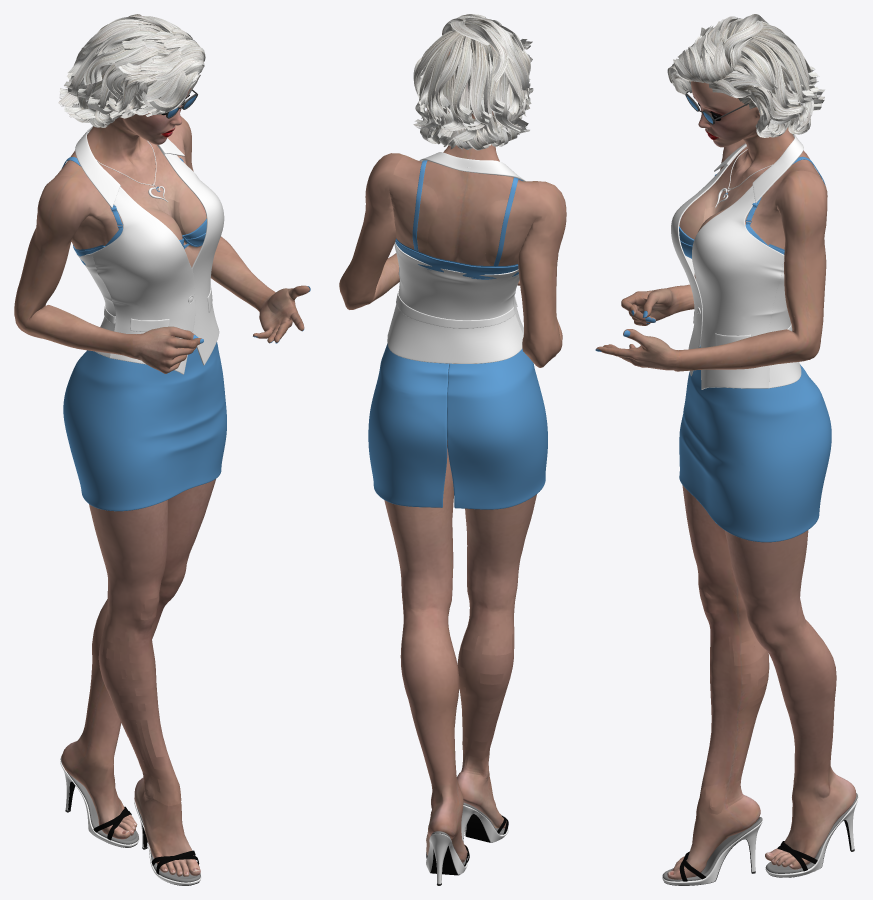
Rendered from woman.glb.
The picture shows the model from 3 angles, left to right: view 1: azimuth 30°, elevation 25°; view 2: azimuth 150°, elevation 25°; view 3: azimuth 270°, elevation 25°; orthographic projection. The views are drawn at different scales.
Parts seen in each view (by area): view 1: sub02, sub03, Object01, Object04, sub01, Object05, Object06, Object02; view 2: sub03, sub02, Object01, Object04, sub01, Object02, Object05, Object06; view 3: sub03, sub02, Object01, Object04, sub01, Object06, Object05, Object02.
Boxes of the visible parts, left/top/right/bottom form: sub02: left=14, top=116, right=310, bottom=806; sub03: left=58, top=14, right=215, bottom=876; Object01: left=63, top=342, right=226, bottom=511; Object04: left=75, top=125, right=224, bottom=374; sub01: left=53, top=88, right=201, bottom=267; Object05: left=60, top=757, right=139, bottom=847; Object06: left=134, top=799, right=201, bottom=885; Object02: left=61, top=157, right=206, bottom=265; sub03: left=384, top=14, right=533, bottom=862; sub02: left=339, top=153, right=566, bottom=778; Object01: left=368, top=343, right=547, bottom=509; Object04: left=387, top=152, right=525, bottom=363; sub01: left=393, top=46, right=539, bottom=368; Object02: left=395, top=160, right=523, bottom=279; Object05: left=426, top=831, right=469, bottom=885; Object06: left=461, top=802, right=508, bottom=842; sub03: left=667, top=14, right=856, bottom=879; sub02: left=595, top=139, right=827, bottom=814; Object01: left=679, top=345, right=831, bottom=542; Object04: left=671, top=134, right=803, bottom=389; sub01: left=691, top=81, right=820, bottom=279; Object06: left=662, top=817, right=762, bottom=885; Object05: left=765, top=793, right=858, bottom=877; Object02: left=679, top=156, right=825, bottom=258.
Size of the model in its own units: 438 by 1640 by 459.
Materials: 39 (19 with a texture image).
